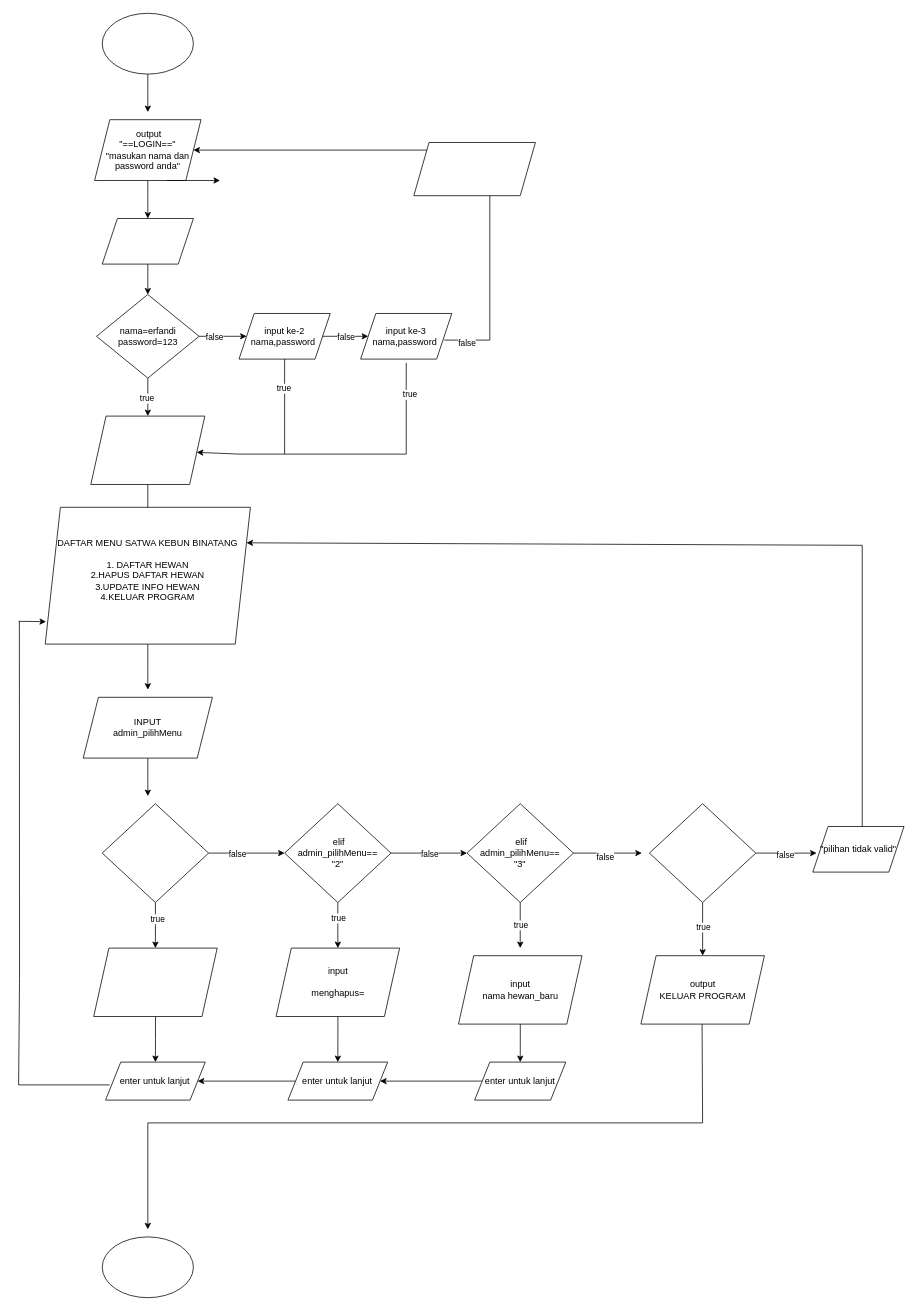
This 917x1311 diagram has some shape labels left out. The shapes that lost their labels are listed below. From the top down, each one's box as (x1, y1, x2, y2) in pixels, then its label:
(101, 13, 193, 74): start
(413, 142, 535, 196): output anda telah tiga kali gagal login,program dihentikan.
(101, 218, 193, 264): input ke-1 nama,password
(90, 415, 205, 484): output "anda berhasil login,selamat datang"
(101, 803, 209, 902): if admin_pilihMenu== "1"
(649, 803, 756, 902): eliif admin_pilihMenu== "4"
(93, 947, 217, 1016): output/input nama hewan
(101, 1236, 193, 1298): end
